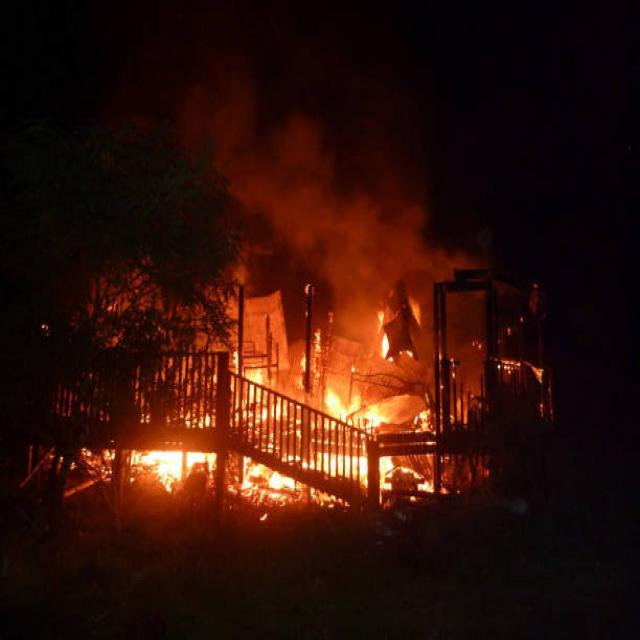Fire: (218, 312, 470, 482), (142, 447, 210, 484)
Smoke: (262, 120, 470, 348)
